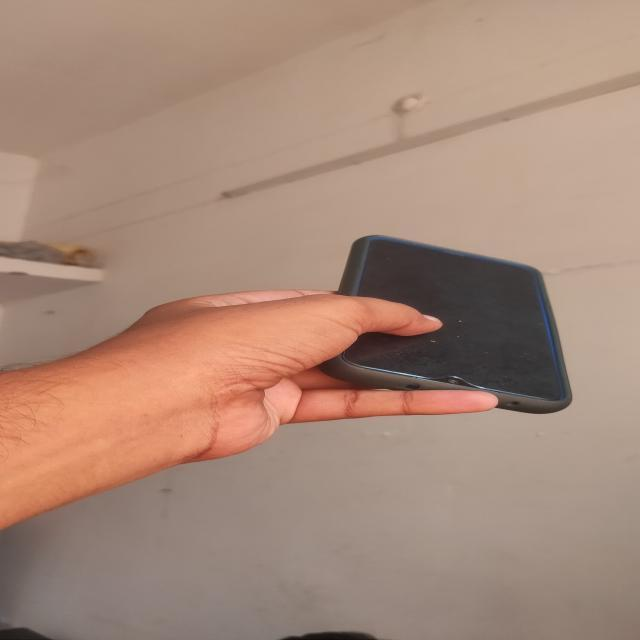Phone: (320, 234, 575, 418)
